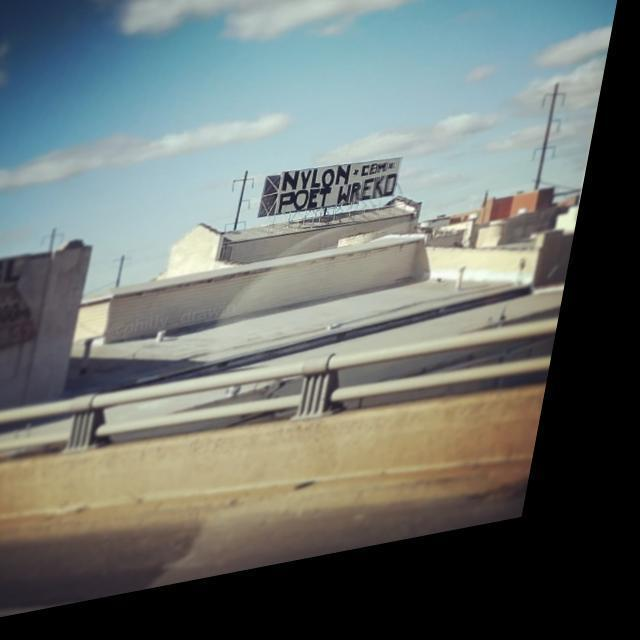-: (286, 167, 415, 236)
